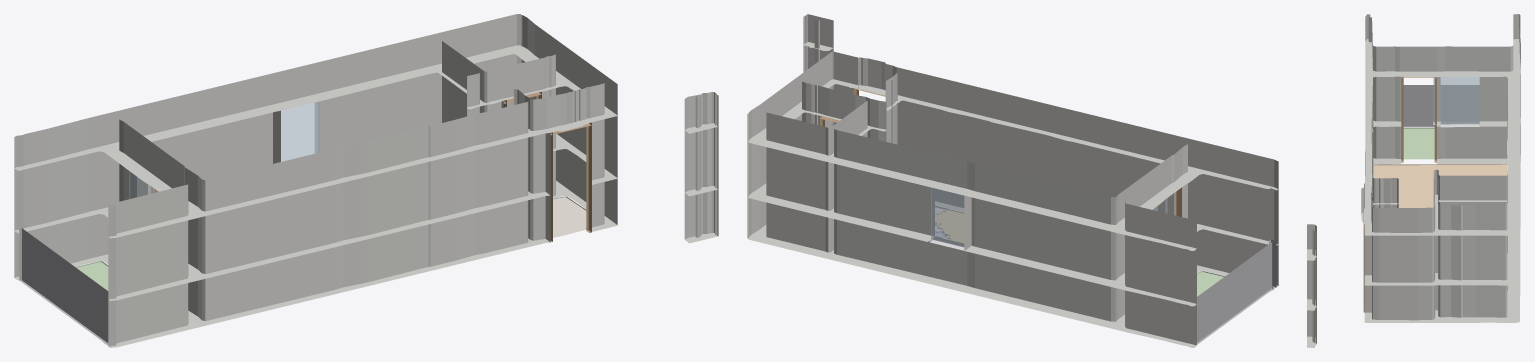
3 views of the same model, side by side, from view 1: azimuth 30°, elevation 25°; view 2: azimuth 150°, elevation 25°; view 3: azimuth 270°, elevation 25° (orthographic). The views are drawn at different scales.
Parts seen in each view (by area): view 1: walls, railings, window_3, floor_7_Entry, door_2, floor_0_Outdoor; view 2: walls, railings, window_3, floor_1_Kitchen; view 3: walls, floor_2_Living_Room, railings, window_4, floor_0_Outdoor, door_1, door_2.
Boxes of the visible parts, box(x1,y1,x2,y2) form: walls: box(14, 14, 718, 347); railings: box(19, 227, 108, 345); window_3: box(281, 98, 319, 161); floor_7_Entry: box(553, 196, 586, 237); door_2: box(550, 122, 591, 241); floor_0_Outdoor: box(75, 261, 108, 290); walls: box(747, 14, 1278, 347); railings: box(1197, 239, 1276, 344); window_3: box(931, 187, 964, 247); floor_1_Kitchen: box(935, 209, 963, 243); walls: box(1307, 14, 1520, 347); floor_2_Living_Room: box(1373, 164, 1506, 207); railings: box(1403, 85, 1479, 127); window_4: box(1440, 74, 1479, 124); floor_0_Outdoor: box(1403, 128, 1434, 159); door_1: box(1401, 76, 1436, 162); door_2: box(1363, 224, 1364, 312).
Bounding box in the file's own units: 11.45 × 2.72 × 4.66.
